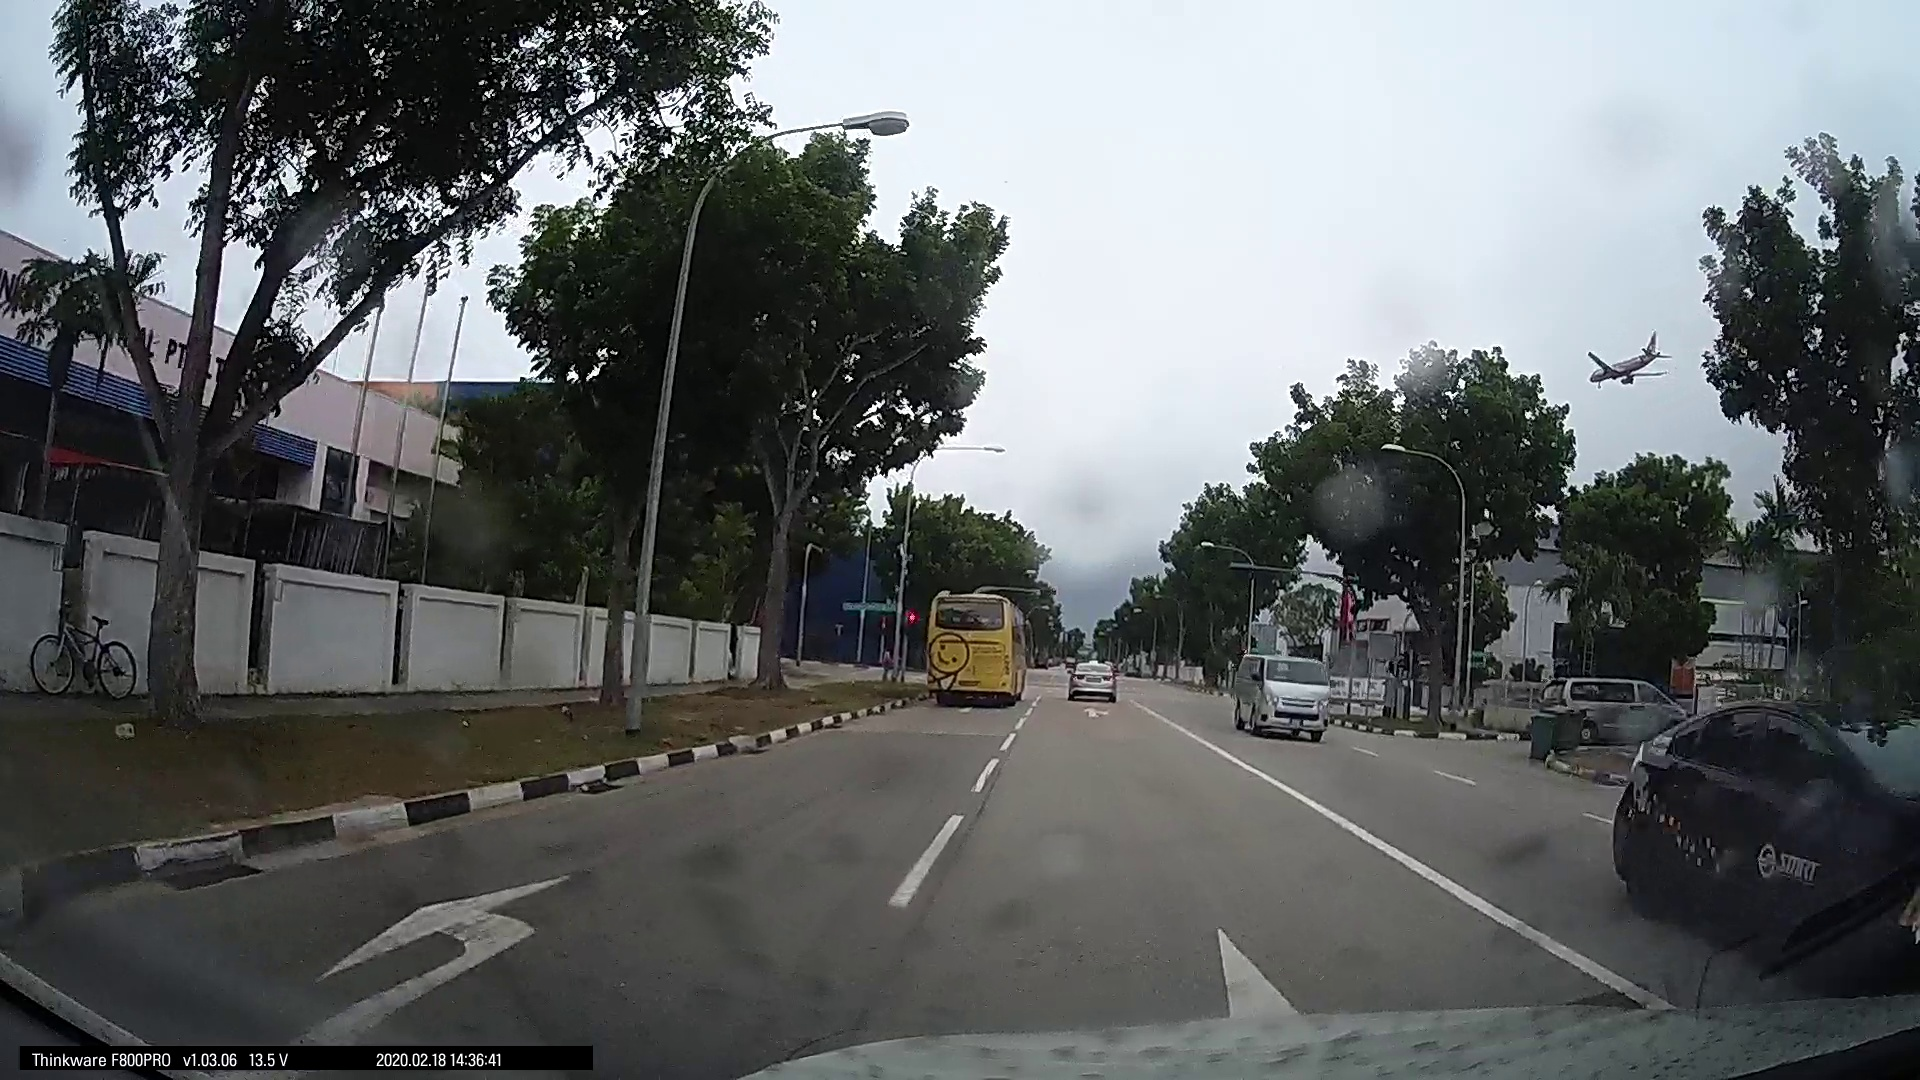Heavy Vehicle: (919, 588, 1029, 711), (1225, 644, 1331, 741)
Light Vehicle: (1606, 688, 1907, 952), (1523, 670, 1684, 756), (1224, 646, 1331, 742), (1062, 651, 1117, 702)
